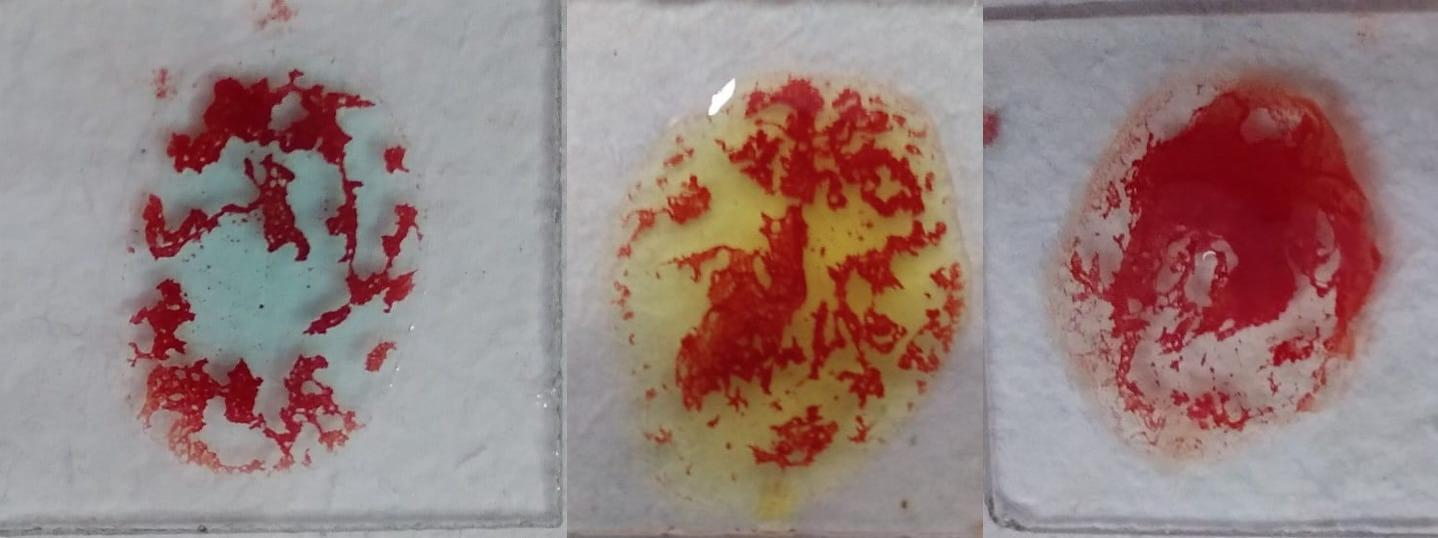A: (119, 59, 413, 470)
B: (619, 69, 957, 523)
D: (1060, 69, 1387, 463)
